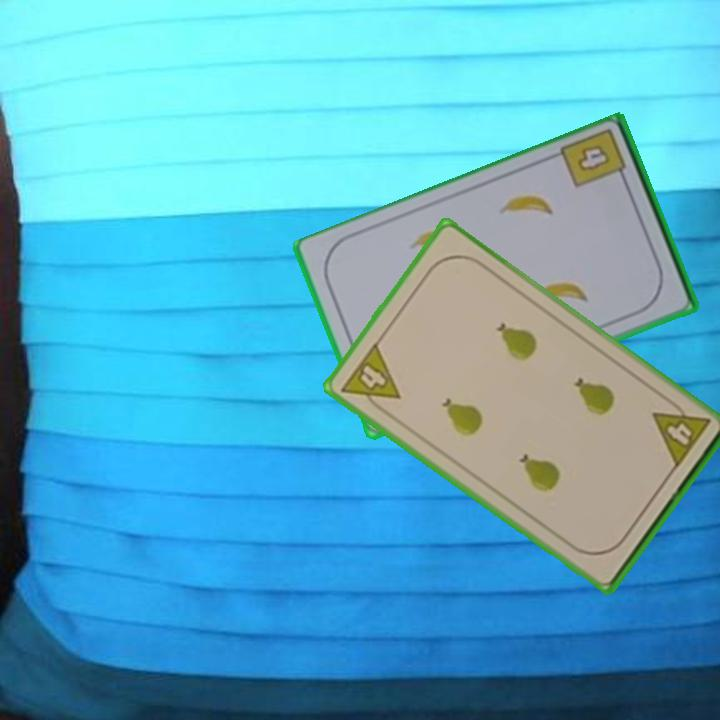4b: (557, 125, 631, 191)
4p: (337, 338, 403, 419), (648, 394, 714, 472)
